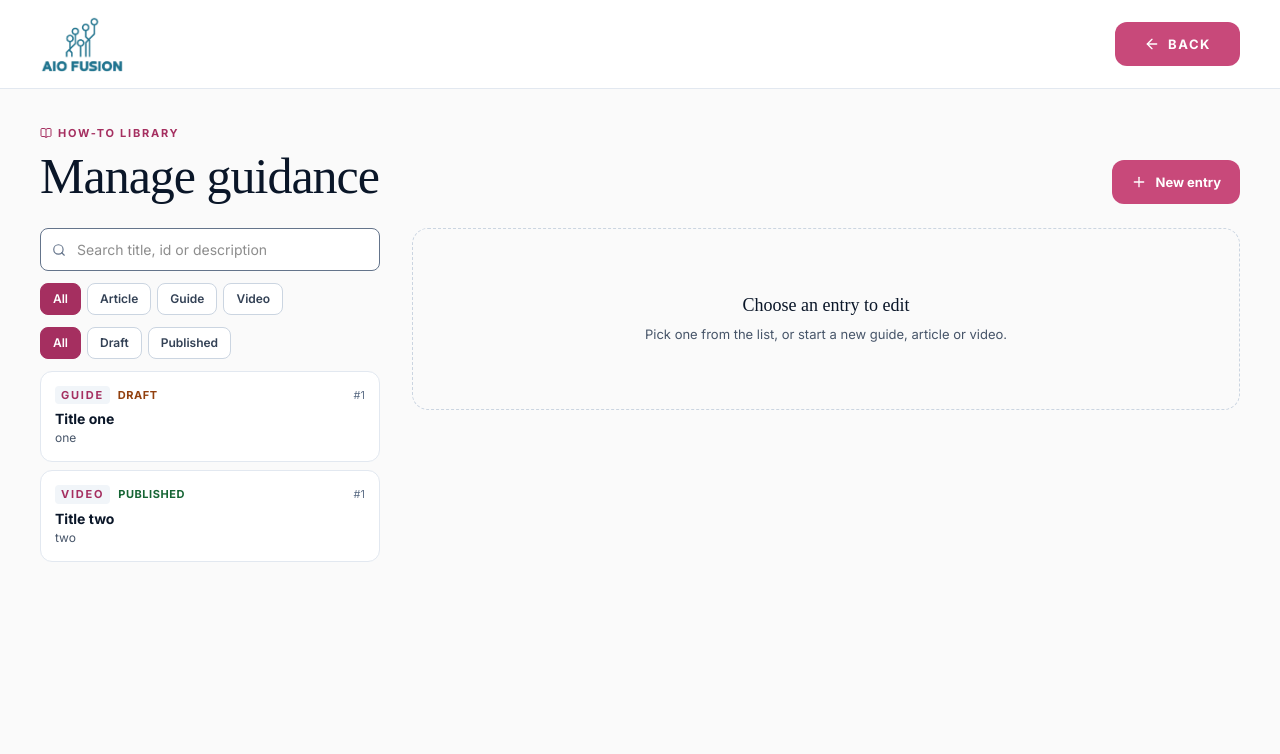
Test: HowtoAdminPage › keeps inputs and unsaved state when a save fails, clears only on confirmed success
Step 1. Click the button with test id "button-new-entry" → x=1176, y=182, box [1112,160,1240,204]
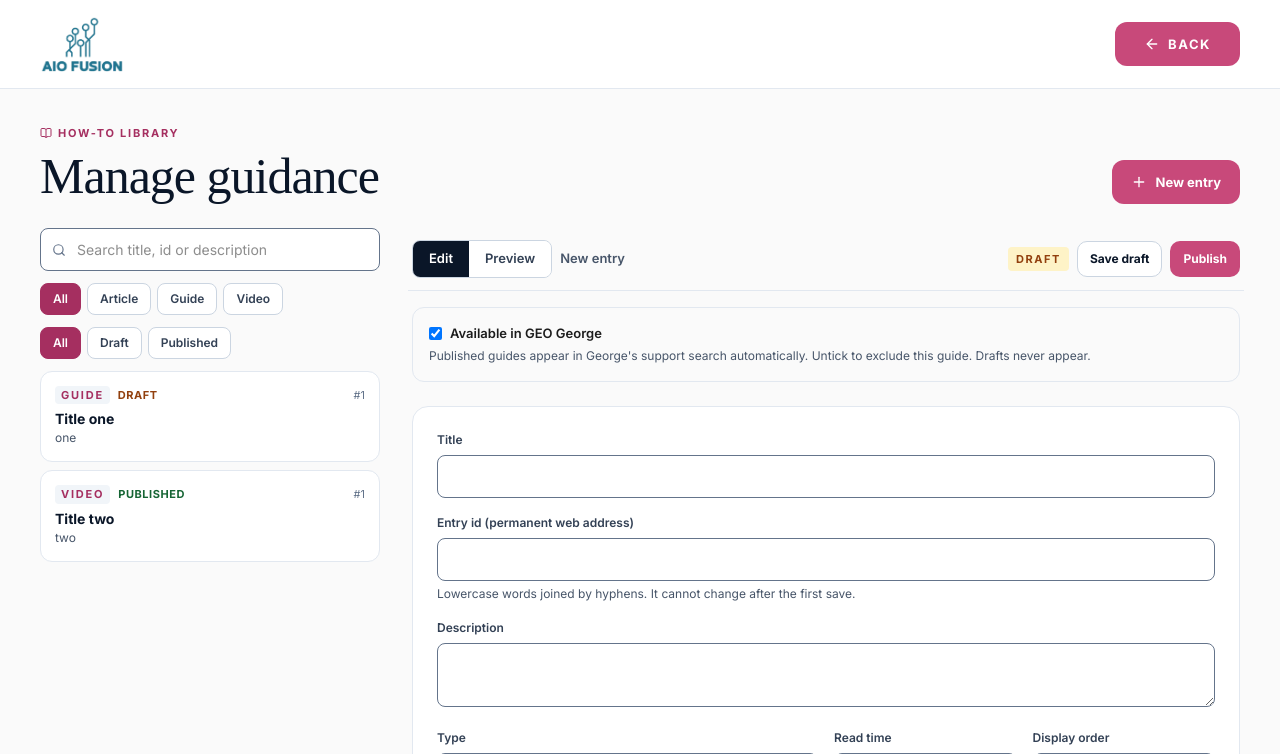
Step 2. Type "My New Guide" into the field with test id "input-title" → x=826, y=477, box [437,455,1215,498]
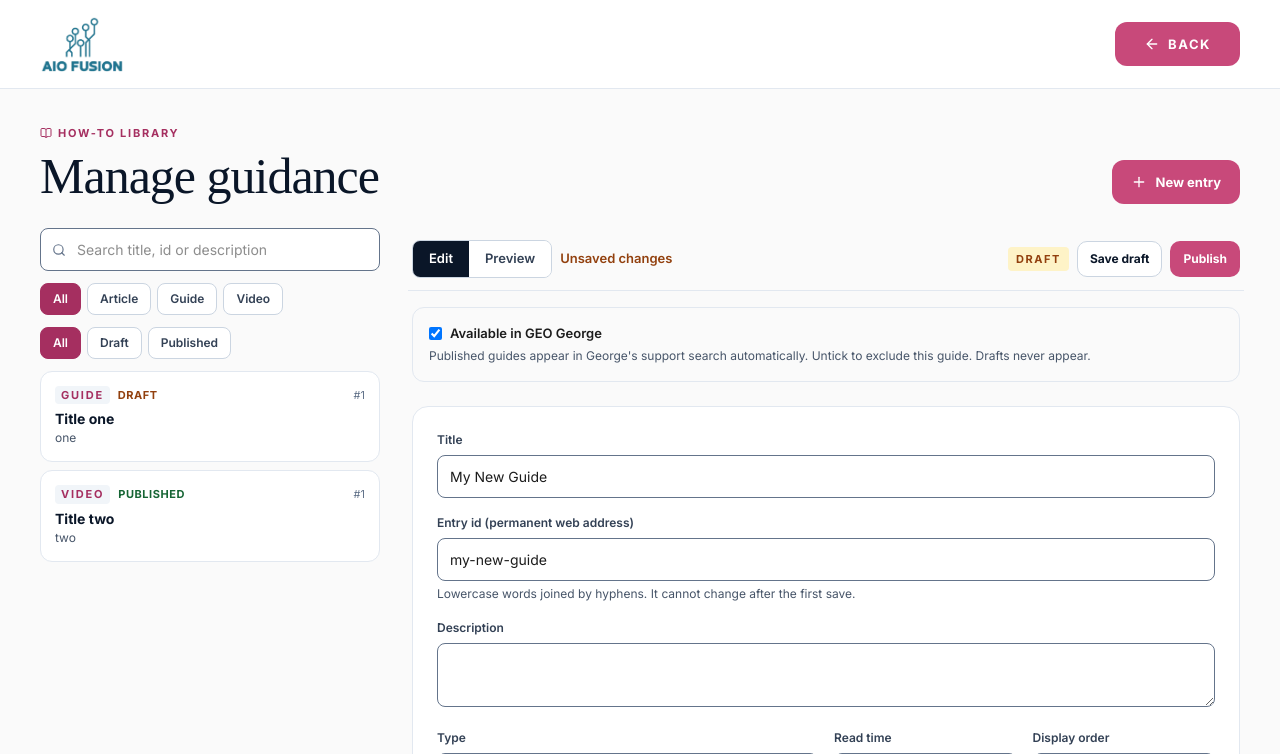
Now the field with test id "input-id" holds "my-new-guide", box [437,538,1215,581]
Step 3. Type "About it" into the text box with test id "input-description" → x=826, y=675, box [437,643,1215,707]
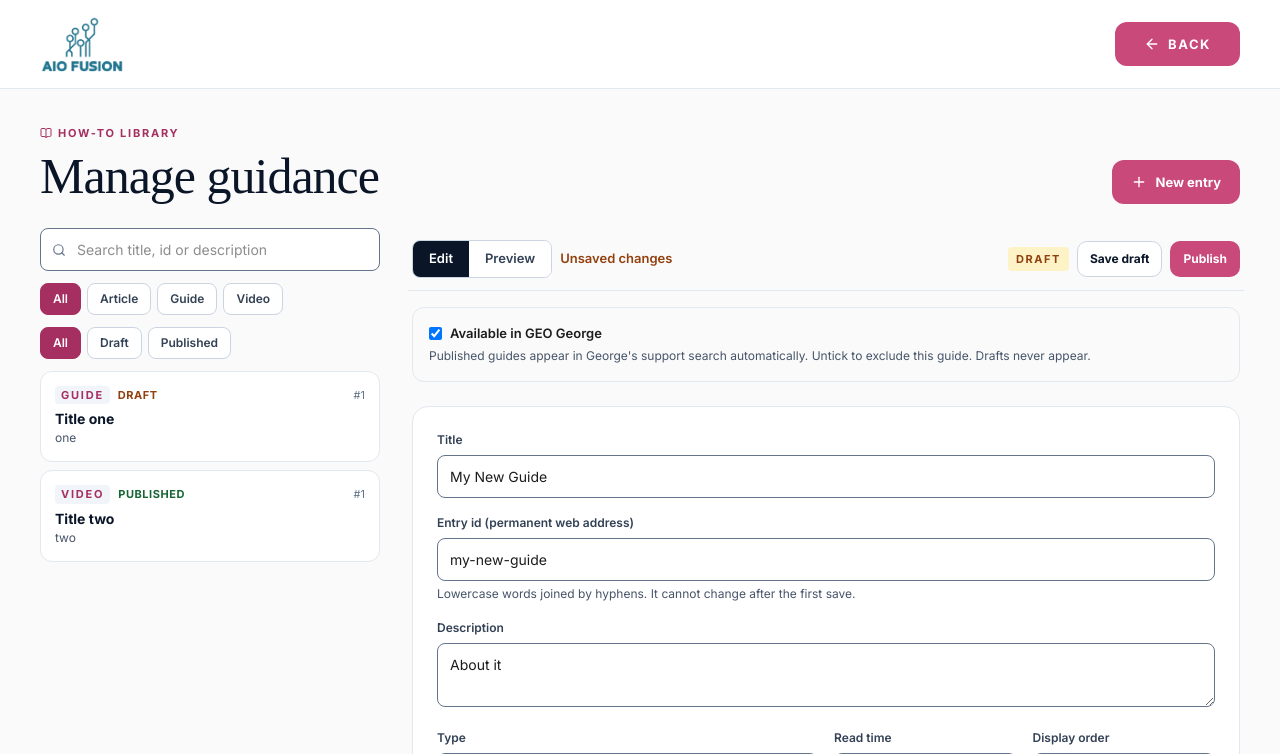
Step 4. Click the button with test id "button-save" → x=1120, y=259, box [1077,241,1162,277]
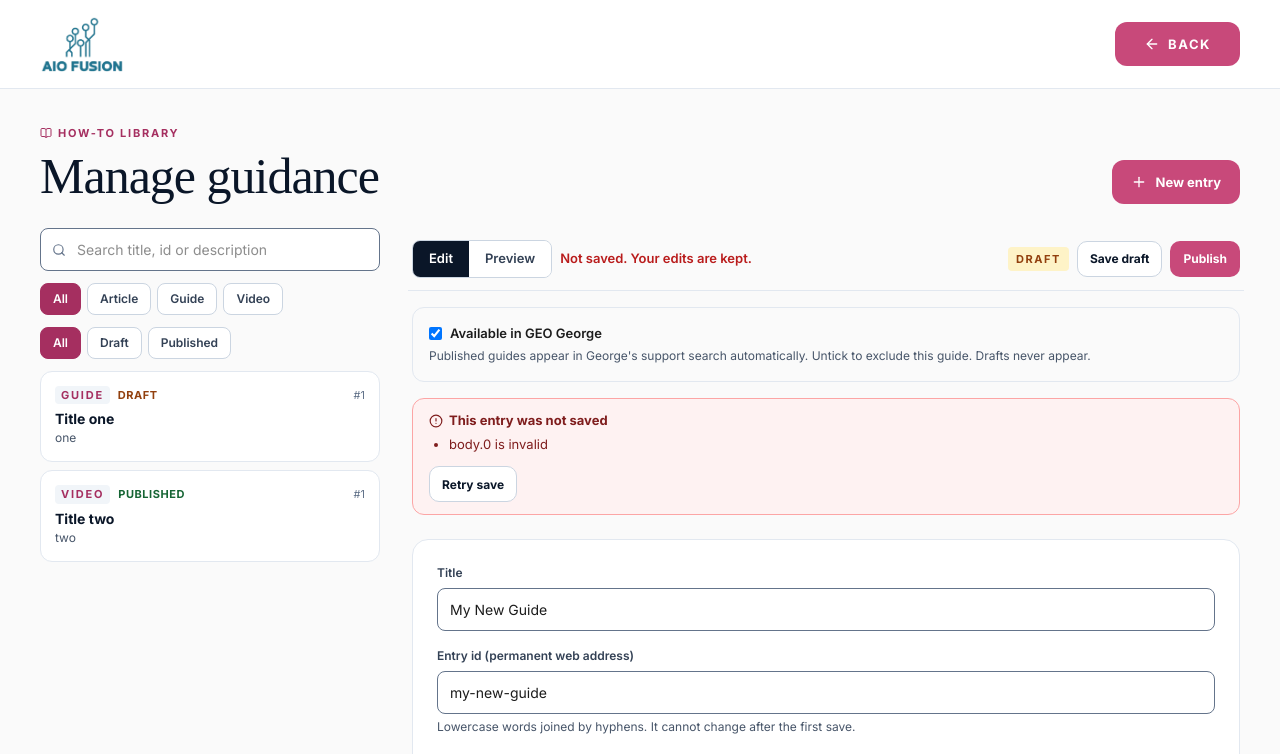
Now the message with test id "save-error" shows "body.0 is invalid", box [449,436,548,452]
Step 5. Click the button with test id "button-retry-save" → x=473, y=484, box [429,466,517,502]
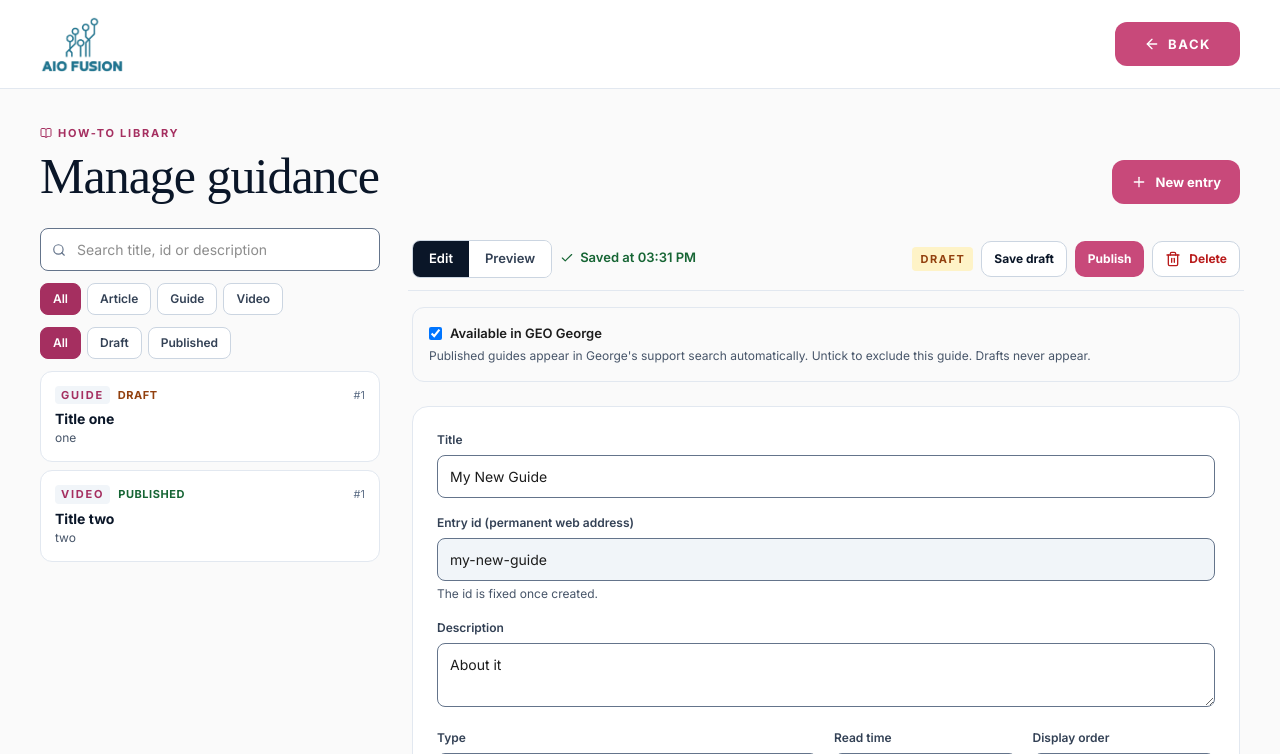
Now the field with test id "input-id" is disabled, box [437,538,1215,581]
